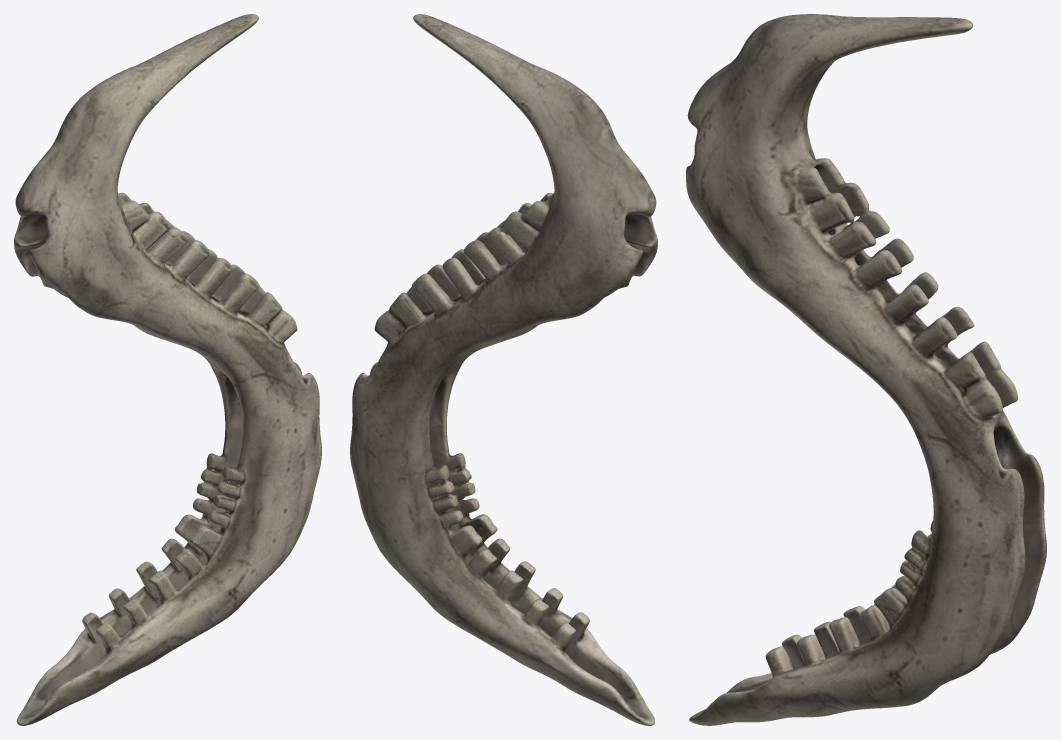
3 views of the same model, side by side, from view 1: azimuth 30°, elevation 25°; view 2: azimuth 150°, elevation 25°; view 3: azimuth 330°, elevation 25° (orthographic). The views are drawn at different scales.
Visible parts, largest first — view 1: mesh_node; view 2: mesh_node; view 3: mesh_node.
Boxes of the visible parts, bbox=[...] form: mesh_node: bbox=[14, 14, 321, 725]; mesh_node: bbox=[350, 14, 657, 725]; mesh_node: bbox=[686, 14, 1046, 725].
Bounding box in the file's own units: 0.8931 × 1.9 × 0.2282.
1 material, 1 textured.
